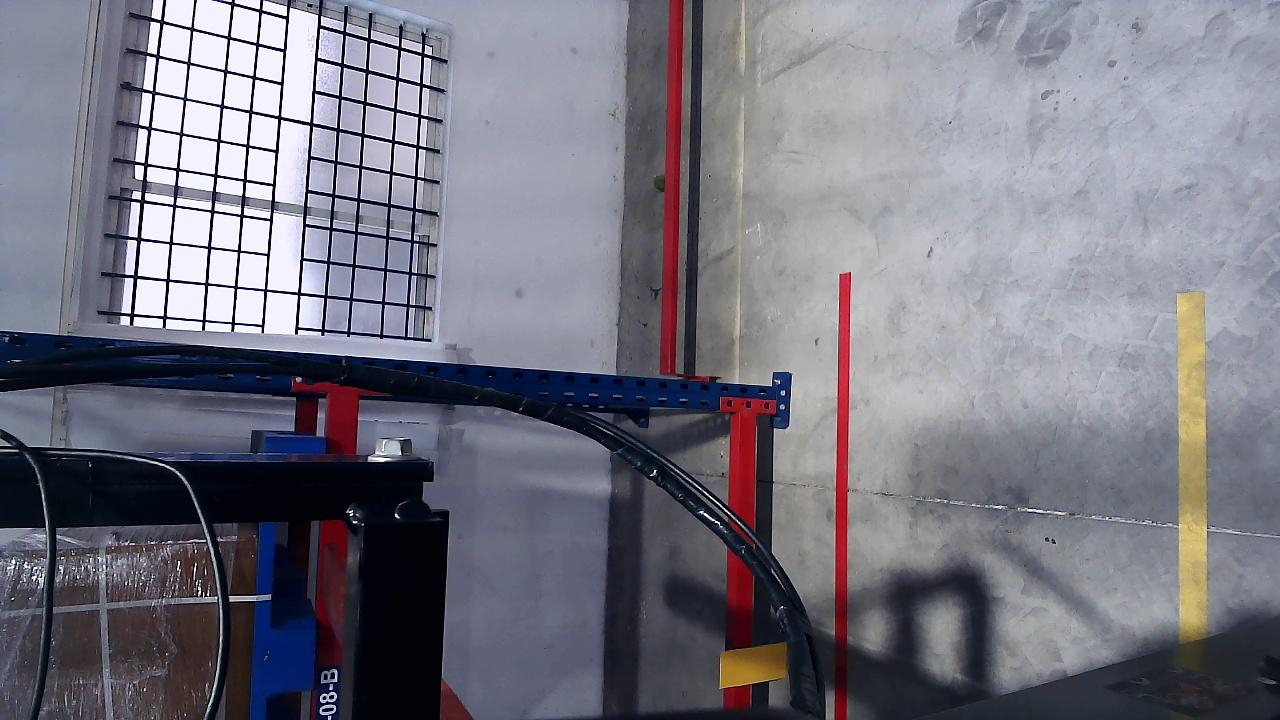h_rack: (727, 411, 761, 709)
orange_strip: (718, 642, 788, 689)
red_line: (835, 267, 850, 720)
yellow_line: (1175, 293, 1208, 640)
